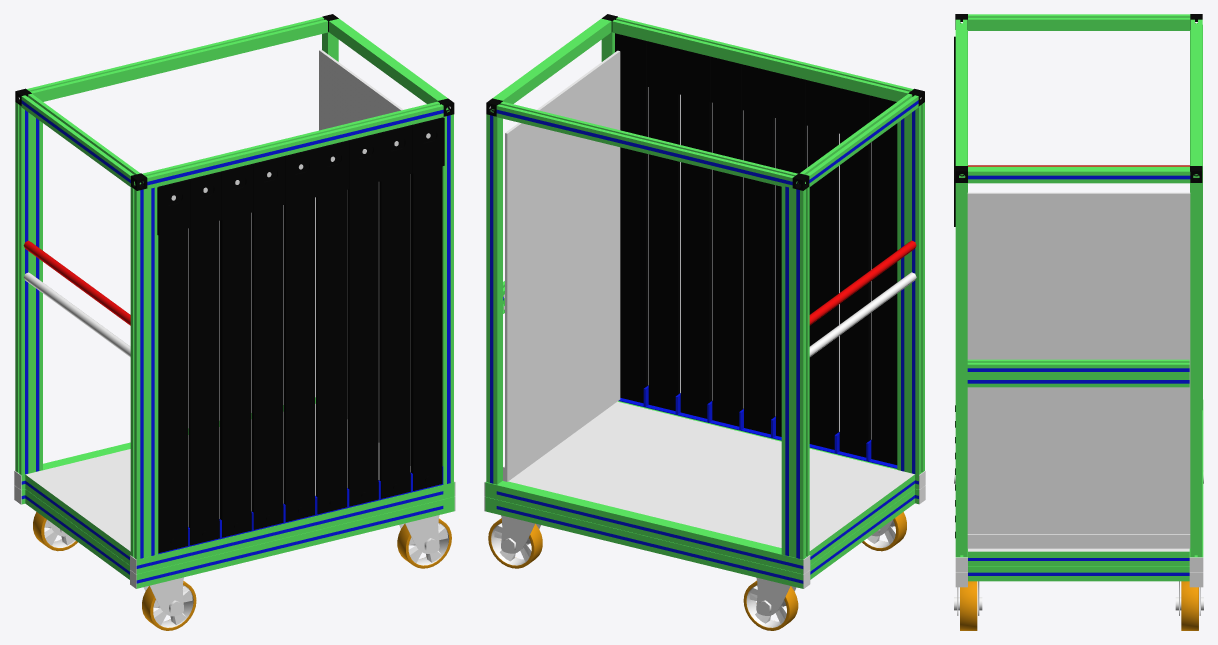
File: RC08 Tische.FBX
3 renders of one model, left to right at view 1: azimuth 30°, elevation 25°; view 2: azimuth 150°, elevation 25°; view 3: azimuth 270°, elevation 25°, orthographic.
Parts seen in each view (by area): view 1: Trolly_3; view 2: Trolly_3; view 3: Trolly_3.
Part boxes in pixels (left/top/right/bottom): Trolly_3: left=14, top=14, right=455, bottom=630; Trolly_3: left=484, top=14, right=925, bottom=630; Trolly_3: left=954, top=14, right=1203, bottom=630.
Size of the model in its own units: 11.73 by 16.18 by 7.82.
